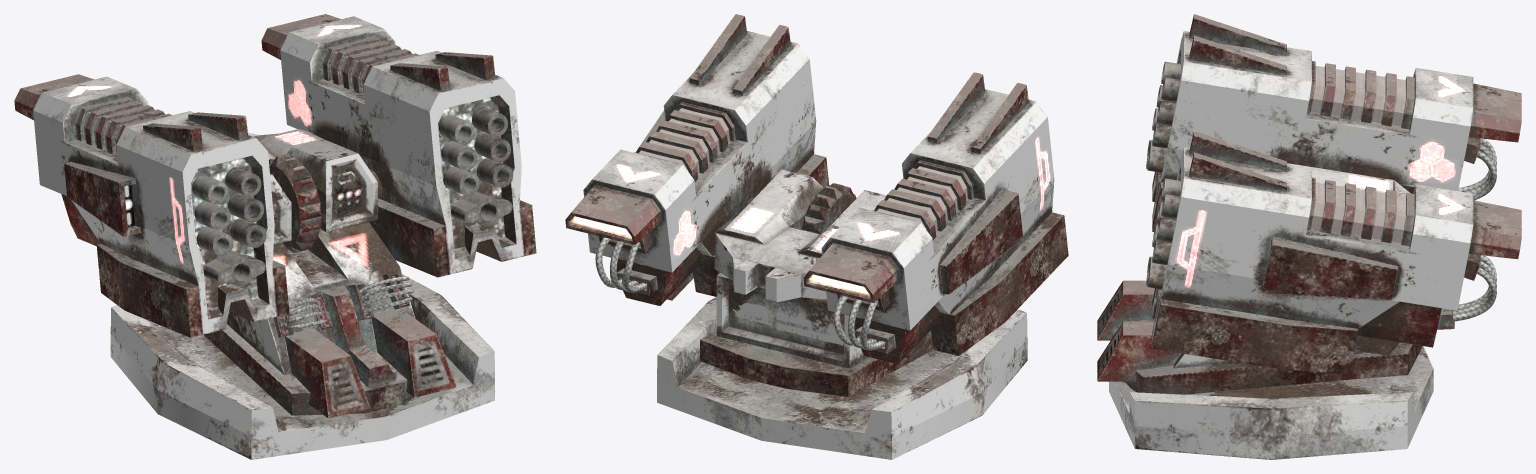
File: missile_turret.glb
3 renders of one model, left to right at view 1: azimuth 30°, elevation 25°; view 2: azimuth 150°, elevation 25°; view 3: azimuth 270°, elevation 25°, orthographic. The views are drawn at different scales.
Visible parts, largest first — view 1: turret-barrel, turret-base; view 2: turret-barrel, turret-base; view 3: turret-barrel, turret-base.
Boxes of the visible parts, x1,y1,x2,y2 form: turret-barrel: (14, 14, 534, 328); turret-base: (71, 222, 536, 459); turret-barrel: (565, 14, 1067, 352); turret-base: (614, 185, 1068, 459); turret-barrel: (1146, 14, 1521, 335); turret-base: (1097, 173, 1474, 459).
Bounding box in the file's own units: 0.9635 × 0.7945 × 1.
1 material, 1 textured.
